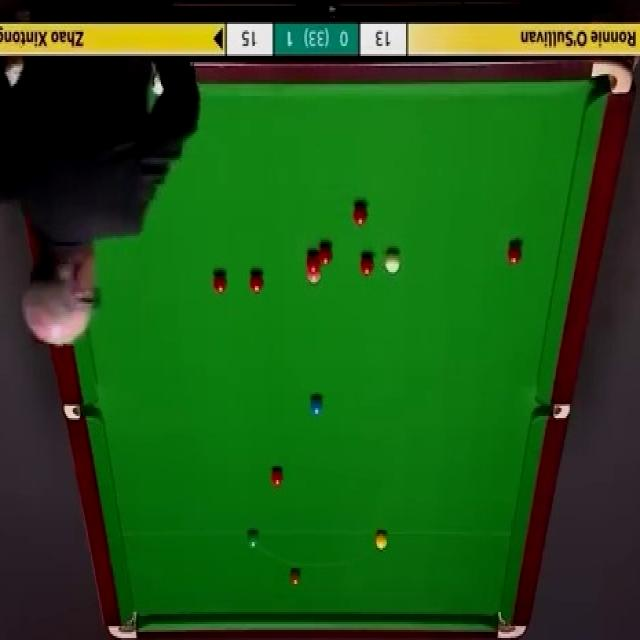blue-ball: (310, 396, 325, 418)
brown-ball: (289, 568, 302, 588)
green-ball: (247, 530, 260, 551)
pink-ball: (306, 270, 322, 284)
red-ball: (508, 239, 524, 266), (269, 466, 286, 488), (249, 271, 265, 294), (305, 252, 322, 273), (360, 254, 375, 276), (212, 272, 226, 295), (354, 204, 368, 226), (318, 244, 332, 264)
white-ball: (384, 250, 401, 276)
yellow-ball: (375, 531, 388, 552)
